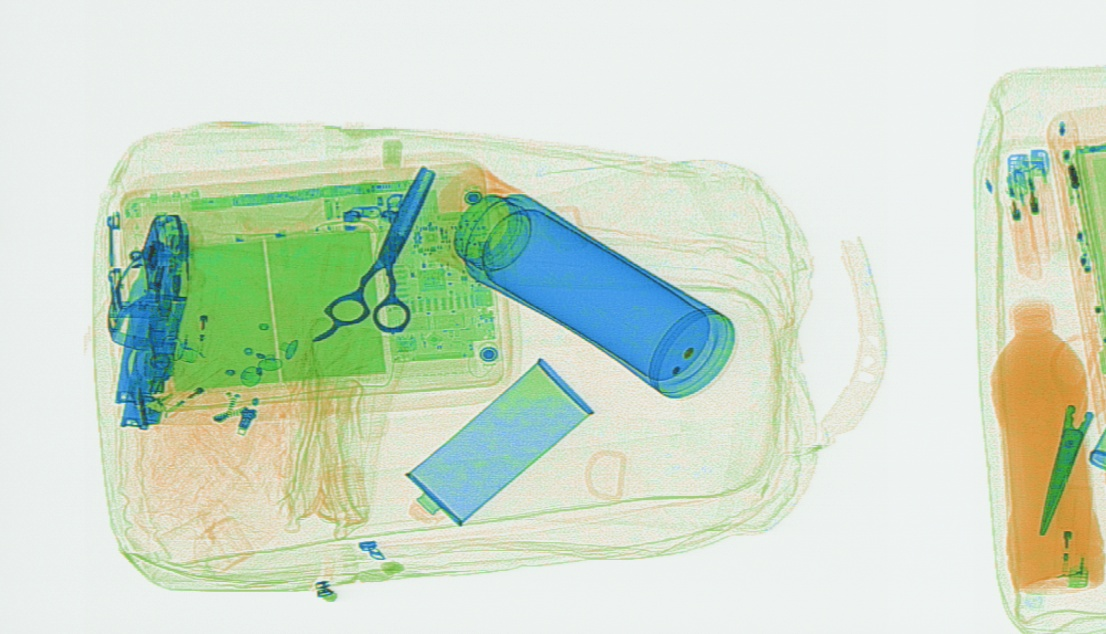lighter: (141, 347, 242, 436), (167, 264, 220, 368), (1022, 143, 1061, 263), (1003, 150, 1040, 274)
scissors: (308, 166, 435, 343), (1034, 396, 1085, 539)
zippooil: (405, 360, 592, 528)
